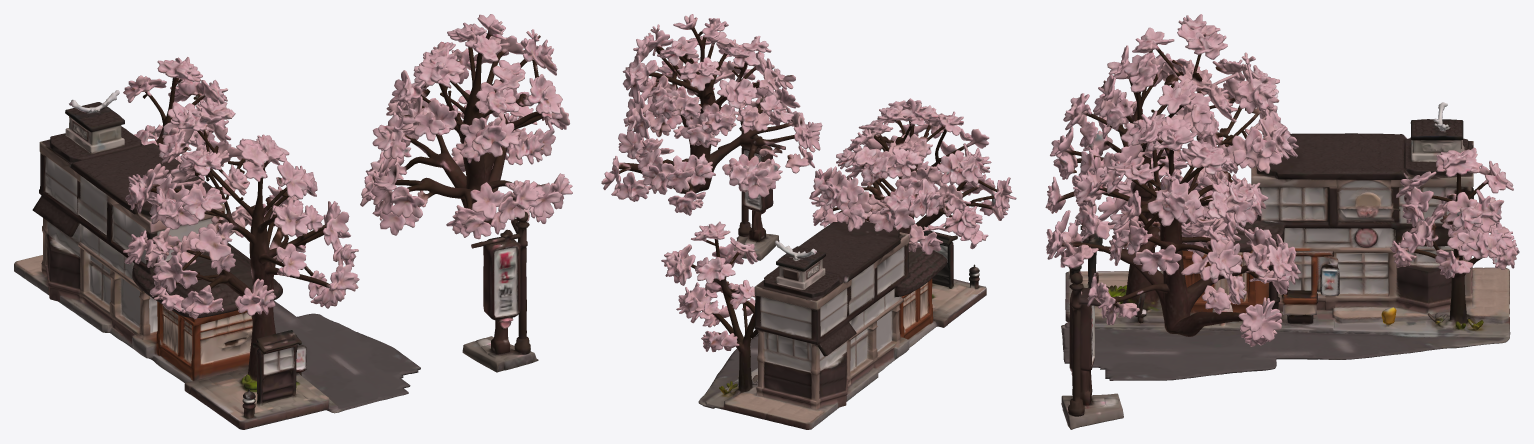
Rendered from cherry-blossom-street.glb.
3 views of the same model, side by side, from view 1: azimuth 30°, elevation 25°; view 2: azimuth 150°, elevation 25°; view 3: azimuth 270°, elevation 25° (orthographic). The views are drawn at different scales.
Parts seen in each view (by area): view 1: tripo_mesh_715dcb5d_3dca_4edc_8237_dda58a569748; view 2: tripo_mesh_715dcb5d_3dca_4edc_8237_dda58a569748; view 3: tripo_mesh_715dcb5d_3dca_4edc_8237_dda58a569748.
Boxes of the visible parts, left/top/right/bottom form: tripo_mesh_715dcb5d_3dca_4edc_8237_dda58a569748: left=14, top=14, right=572, bottom=429; tripo_mesh_715dcb5d_3dca_4edc_8237_dda58a569748: left=601, top=14, right=1016, bottom=429; tripo_mesh_715dcb5d_3dca_4edc_8237_dda58a569748: left=1045, top=14, right=1519, bottom=429.
Bounding box in the file's own units: 0.9801 × 0.7001 × 0.9475.
1 material, 1 textured.
